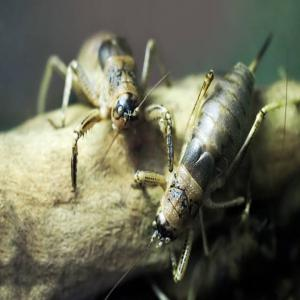locust: (151, 43, 288, 258), (56, 1, 179, 164)
